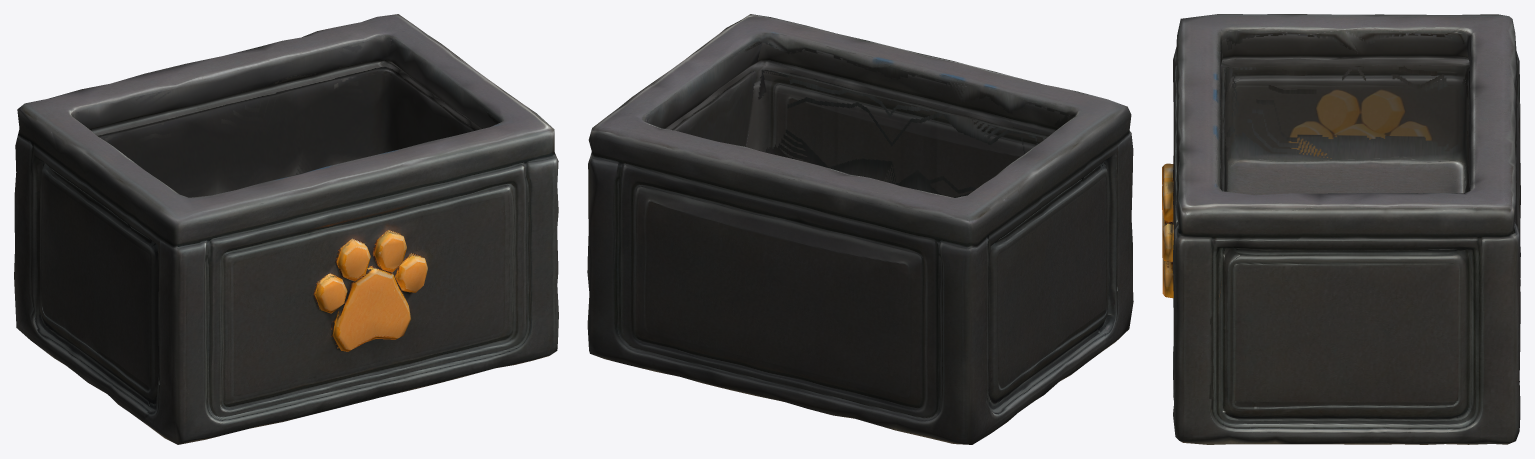
The model's file is P_CratePlastic.fbx.
3 views of the same model, side by side, from view 1: azimuth 30°, elevation 25°; view 2: azimuth 150°, elevation 25°; view 3: azimuth 270°, elevation 25° (orthographic). The views are drawn at different scales.
Parts seen in each view (by area): view 1: texture_mapping; view 2: texture_mapping; view 3: texture_mapping.
Part boxes in pixels (x1,y1,x2,y2): texture_mapping: [14, 14, 558, 444]; texture_mapping: [587, 14, 1133, 444]; texture_mapping: [1162, 14, 1520, 444].
Bounding box in the file's own units: 1.01 × 0.7714 × 0.5728.
1 material, 1 textured.
